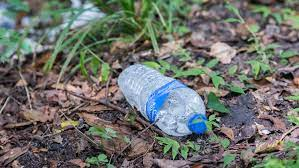plastic_bottle: (117, 60, 208, 140)
